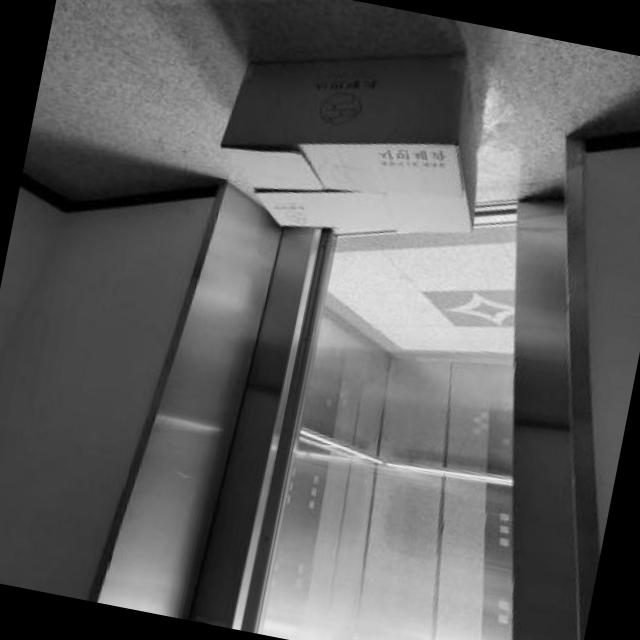box: (193, 0, 530, 287)
